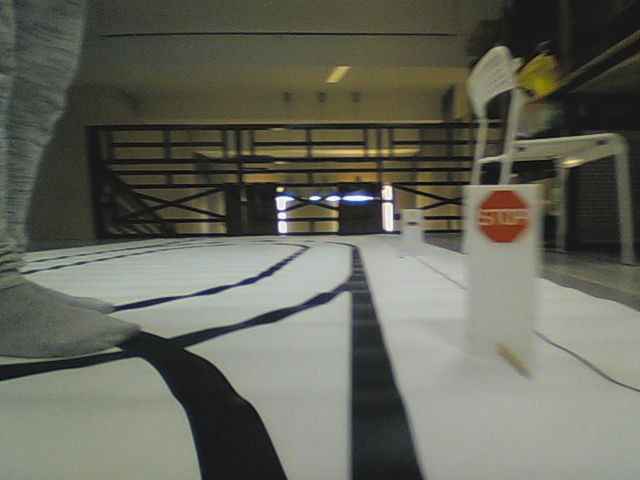Stop: (476, 188, 530, 244)
